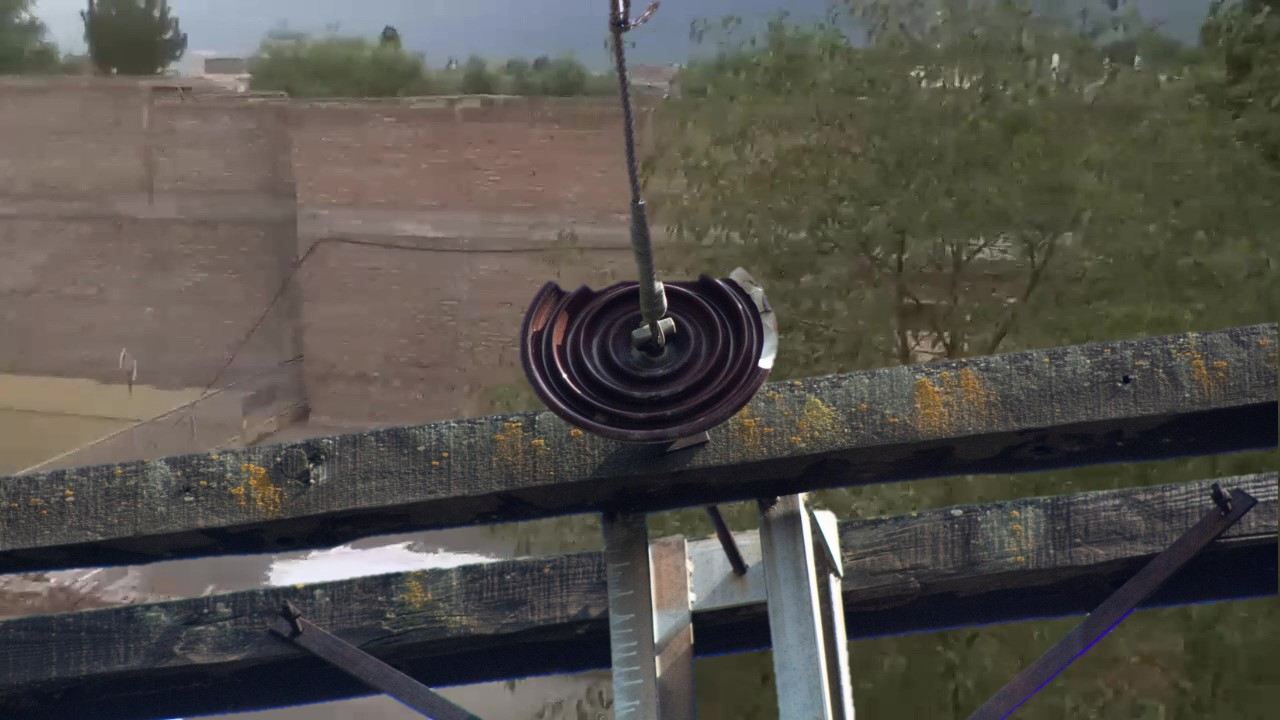defect_disc: (519, 258, 787, 451)
